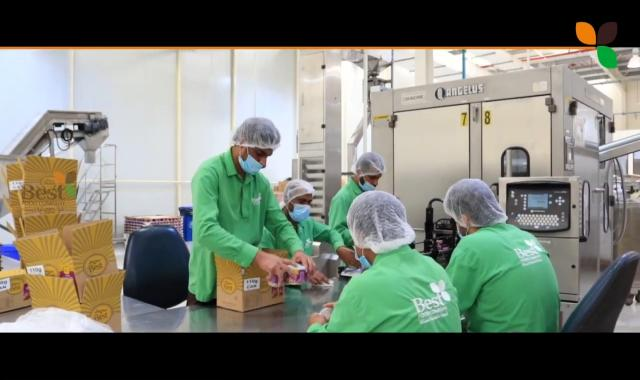hairnet: (347, 191, 413, 254), (444, 177, 508, 225), (228, 115, 279, 164), (282, 178, 315, 213), (353, 150, 385, 186)
